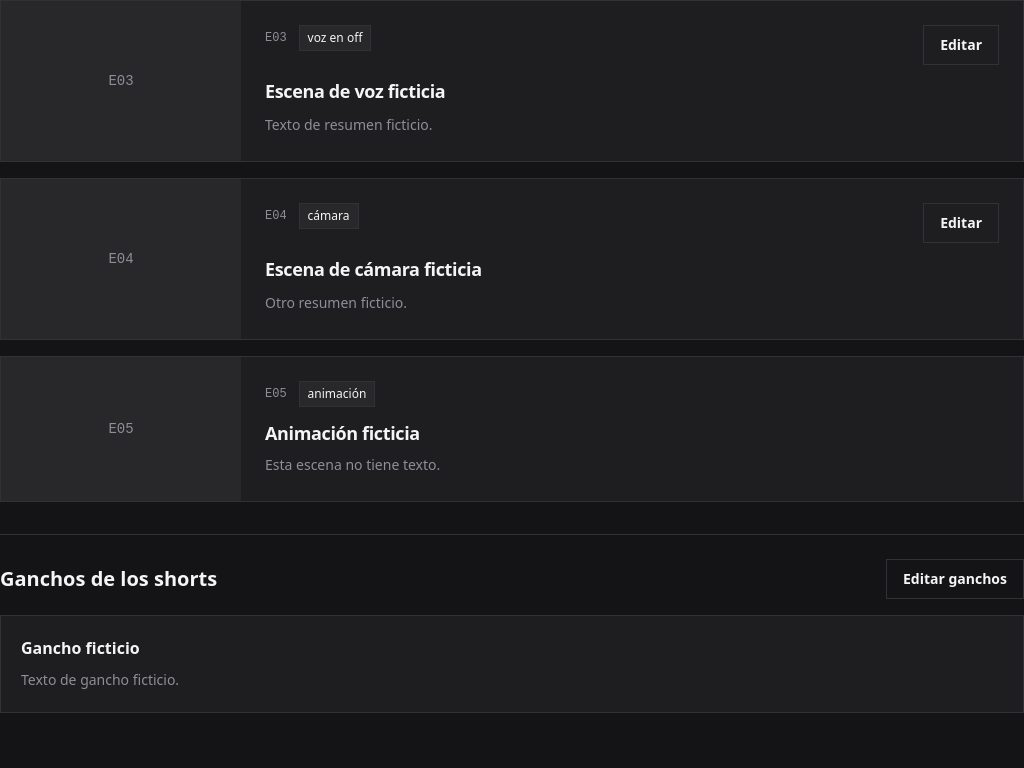
GuionEditable › edita la frase 2 de una escena de voz y refresca tras guardar
The image size is (1024, 768).
Click the button with aria-label "Editar E03". click: {"x": 961, "y": 45}
box: [923,25,999,65]
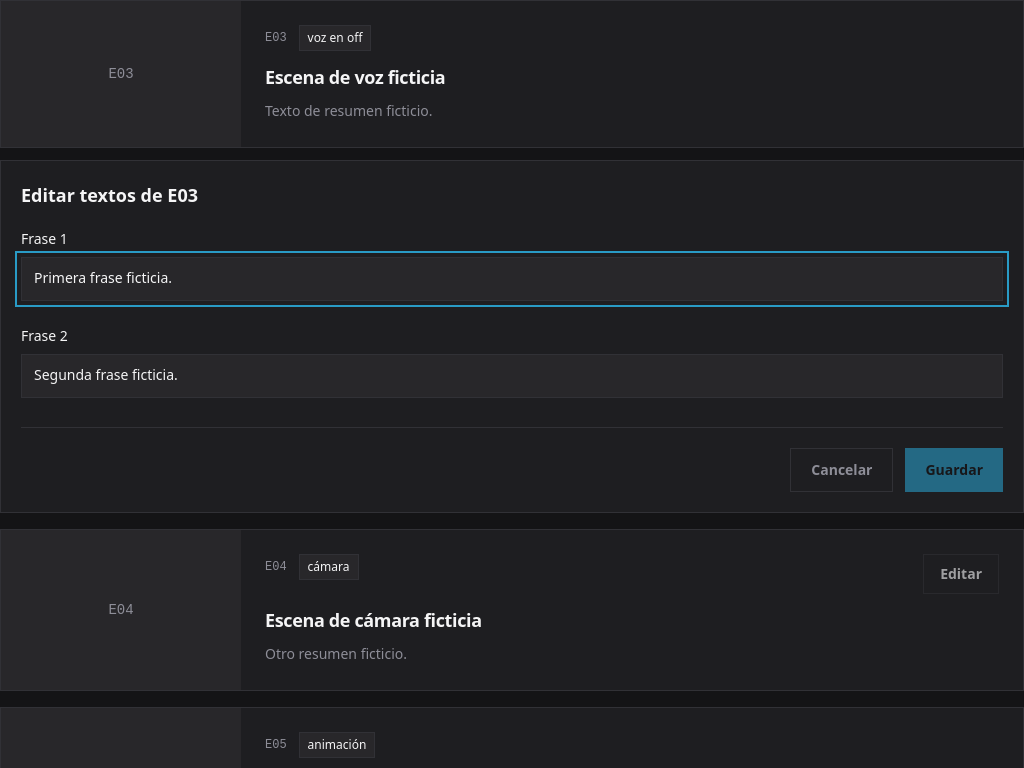
Replace the text in the text box labelled "Frase 2" with "Frase corregida ficticia.". click: {"x": 512, "y": 376}
box: [21,354,1003,398]
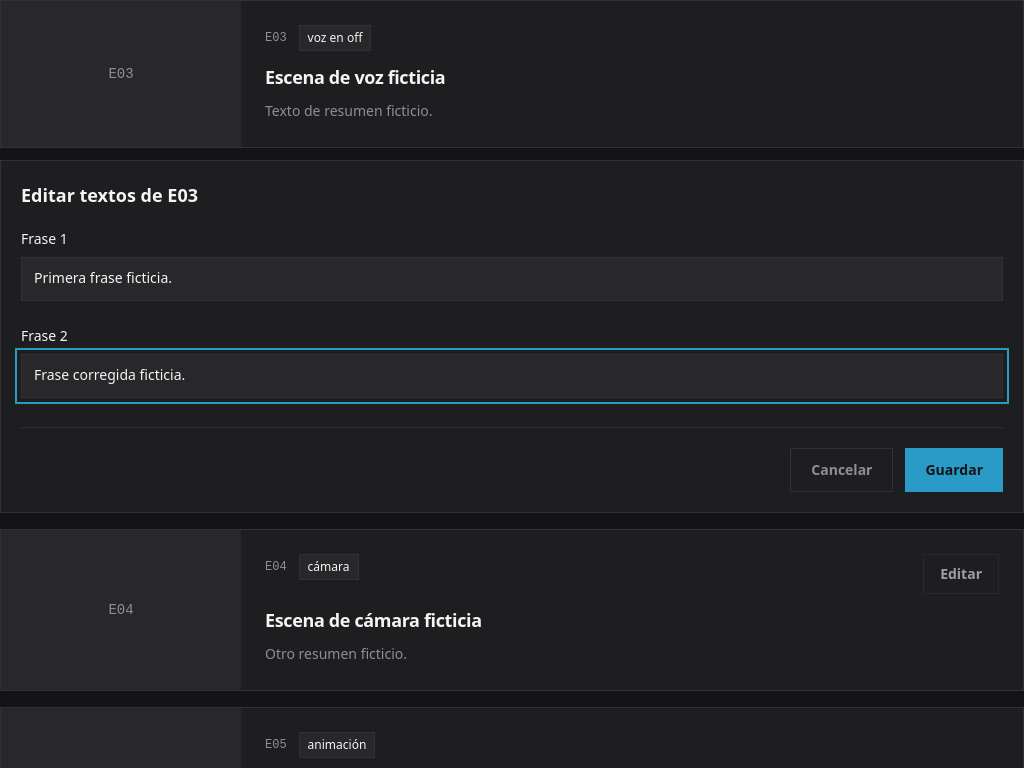
Click the button "Guardar". click: {"x": 954, "y": 470}
box: [906,448,1003,492]
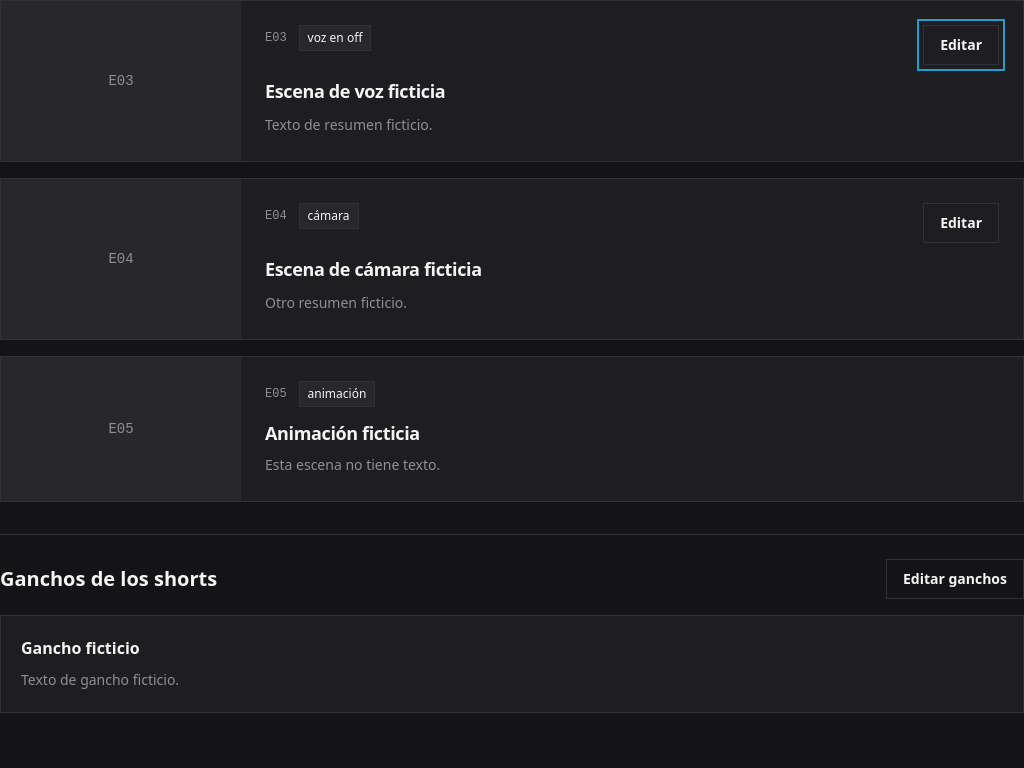
Expected: the label labelled "Frase 2" is gone
